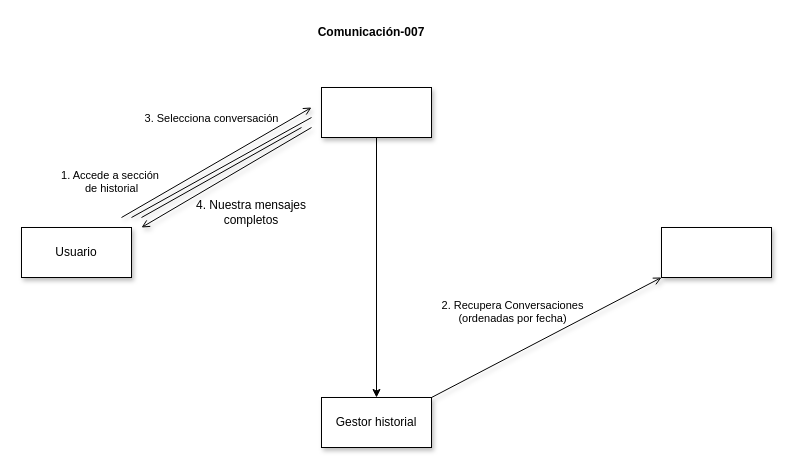
Image size: 795x472. Some labels were removed from this diagram. Each missing label, with the centre of its shape:
"Interfaz historial" belongs at pixel 377 113.
"SQLite" belongs at pixel 717 253.
